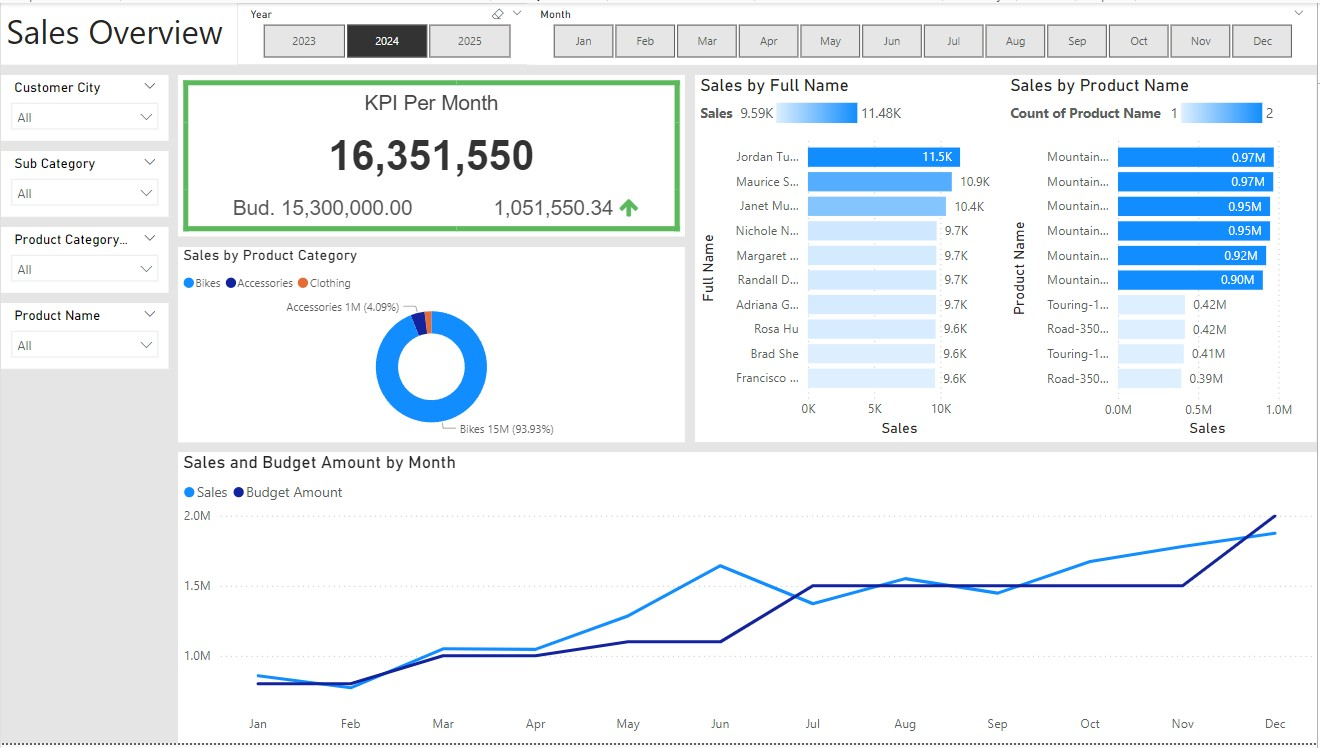

The page's visual inventory and layout, read from the dashboard file:
{"tool":"powerbi","page":{"name":"Line Chart","canvas":[1280,720],"ordinal":0},"visuals":[{"type":"textbox","box":[0,0,1280,60.3],"z":0},{"type":"slicer","fields":{"Values":["DIM_Customers.Customer City"]},"box":[0,70,163.4,64.2],"z":1000},{"type":"slicer","fields":{"Values":["DIM_Product.Sub Category"]},"box":[0,144,163.4,64.2],"z":2000},{"type":"slicer","fields":{"Values":["DIM_Product.Product Category_1"]},"box":[0,217.9,163.4,64.2],"z":3000},{"type":"slicer","fields":{"Values":["DIM_Product.Product Name"]},"box":[0,291.8,163.4,64.2],"z":4000},{"type":"slicer","fields":{"Values":["DIM_Calendar.Year"]},"box":[229.5,0,289.8,60.3],"z":5000},{"type":"slicer","fields":{"Values":["DIM_Calendar.MonthShort"]},"box":[511.6,0,768.4,60.3],"z":6000},{"type":"BBED0A4D4D8D44CE93CF2DAFADEE466C","fields":{"actual":["FACT_InternetSales.Sales_2"],"target1":["FACT_Budget.Budget Amount"],"target2":["Key Measures.Sales - Budget"]},"box":[172.4,70,492.9,157.2],"z":7000},{"type":"donutChart","fields":{"Category":["DIM_Product.Product Category_1"],"Y":["Key Measures.Sales"]},"box":[172.4,237.3,492.9,189.7],"z":8000},{"type":"lineChart","fields":{"Y":["Key Measures.Sales","Key Measures.Budget Amount"],"Category":["DIM_Calendar.MonthShort"]},"box":[172.2,436.7,1107.8,283],"z":9000},{"type":"barChart","fields":{"Y":["Key Measures.Sales"],"Category":["DIM_Customers.Full Name"]},"box":[675,70,303.5,357],"z":10000},{"type":"barChart","fields":{"Category":["DIM_Product.Product Name"],"Y":["Key Measures.Sales"]},"box":[976.7,70,303.3,357],"z":11000}]}

Visuals, with their boxes in screenshot pixels (x1, y1, x2, y2), scaled from the page's 1280x720 canvas onto the 1320x748 screenshot:
textbox: [x1=0, y1=0, x2=1319, y2=63]
slicer - DIM_Customers.Customer City: [x1=0, y1=73, x2=169, y2=139]
slicer - DIM_Product.Sub Category: [x1=0, y1=150, x2=169, y2=216]
slicer - DIM_Product.Product Category_1: [x1=0, y1=226, x2=169, y2=293]
slicer - DIM_Product.Product Name: [x1=0, y1=303, x2=169, y2=370]
slicer - DIM_Calendar.Year: [x1=237, y1=0, x2=536, y2=63]
slicer - DIM_Calendar.MonthShort: [x1=528, y1=0, x2=1319, y2=63]
BBED0A4D4D8D44CE93CF2DAFADEE466C - FACT_InternetSales.Sales_2 x FACT_Budget.Budget Amount: [x1=178, y1=73, x2=686, y2=236]
donutChart - DIM_Product.Product Category_1 x Key Measures.Sales: [x1=178, y1=247, x2=686, y2=444]
lineChart - Key Measures.Sales x Key Measures.Budget Amount: [x1=178, y1=454, x2=1319, y2=747]
barChart - Key Measures.Sales x DIM_Customers.Full Name: [x1=696, y1=73, x2=1009, y2=444]
barChart - DIM_Product.Product Name x Key Measures.Sales: [x1=1007, y1=73, x2=1319, y2=444]
